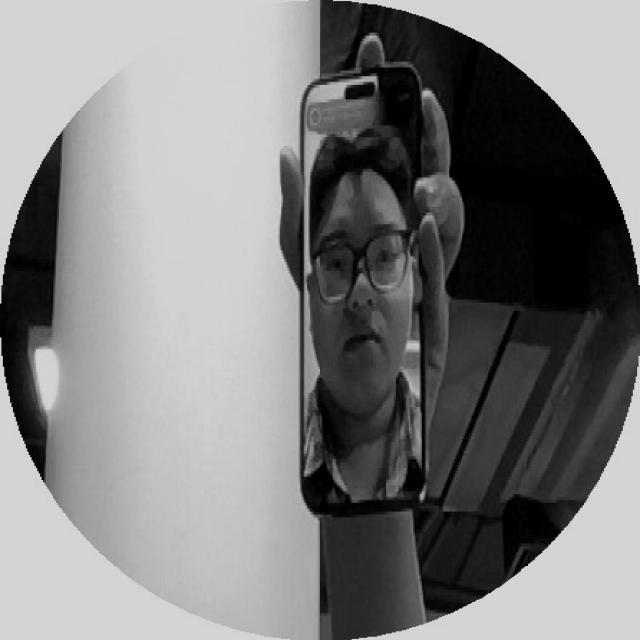fake: (255, 62, 472, 522), (286, 61, 446, 522)
